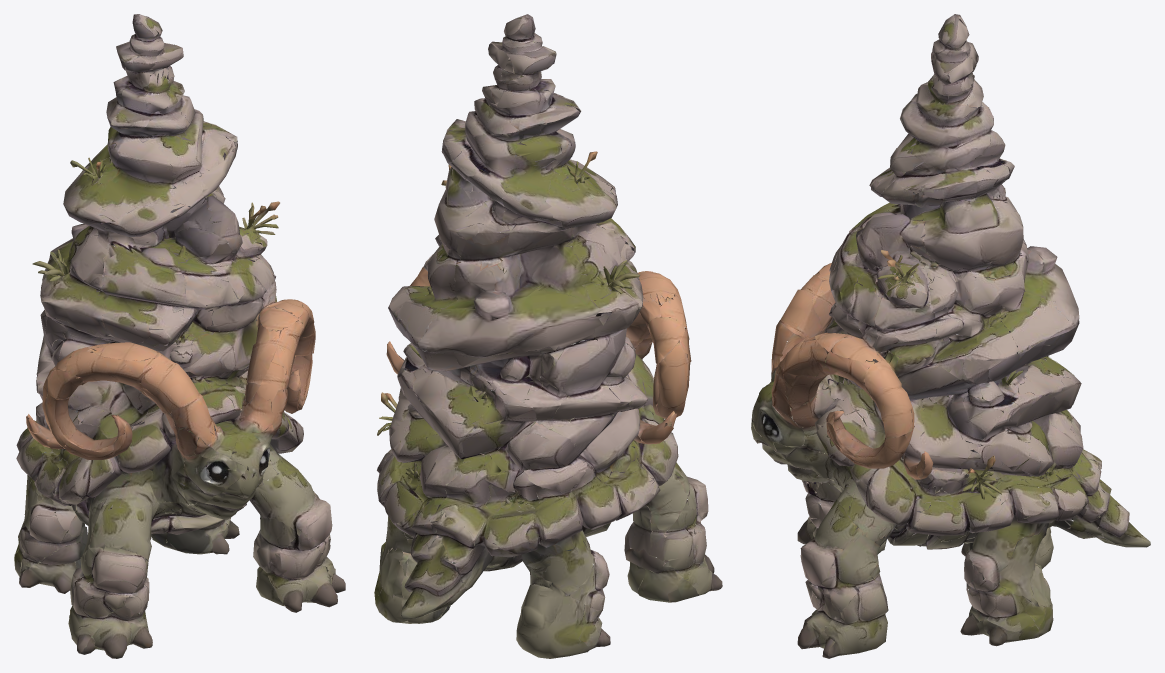
3 renders of one model, left to right at view 1: azimuth 30°, elevation 25°; view 2: azimuth 150°, elevation 25°; view 3: azimuth 270°, elevation 25°, orthographic. The views are drawn at different scales.
Visible parts, largest first — view 1: Mesh_0; view 2: Mesh_0; view 3: Mesh_0.
Boxes of the visible parts, x1,y1,x2,y2 form: Mesh_0: (14, 14, 345, 658); Mesh_0: (374, 14, 722, 658); Mesh_0: (751, 14, 1150, 658).
Size of the model in its own units: 0.9698 by 1.9 by 1.2.
1 material, 1 textured.
